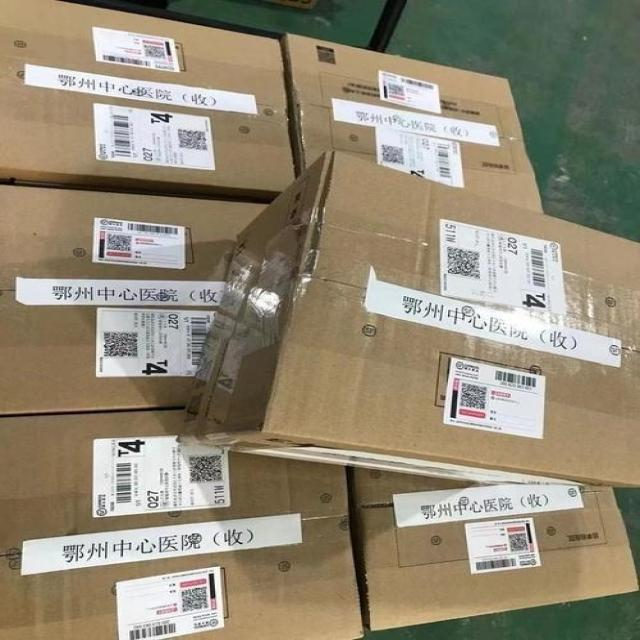box: (178, 148, 640, 488), (0, 407, 366, 640), (0, 182, 270, 416), (348, 465, 640, 632), (280, 33, 547, 213)
